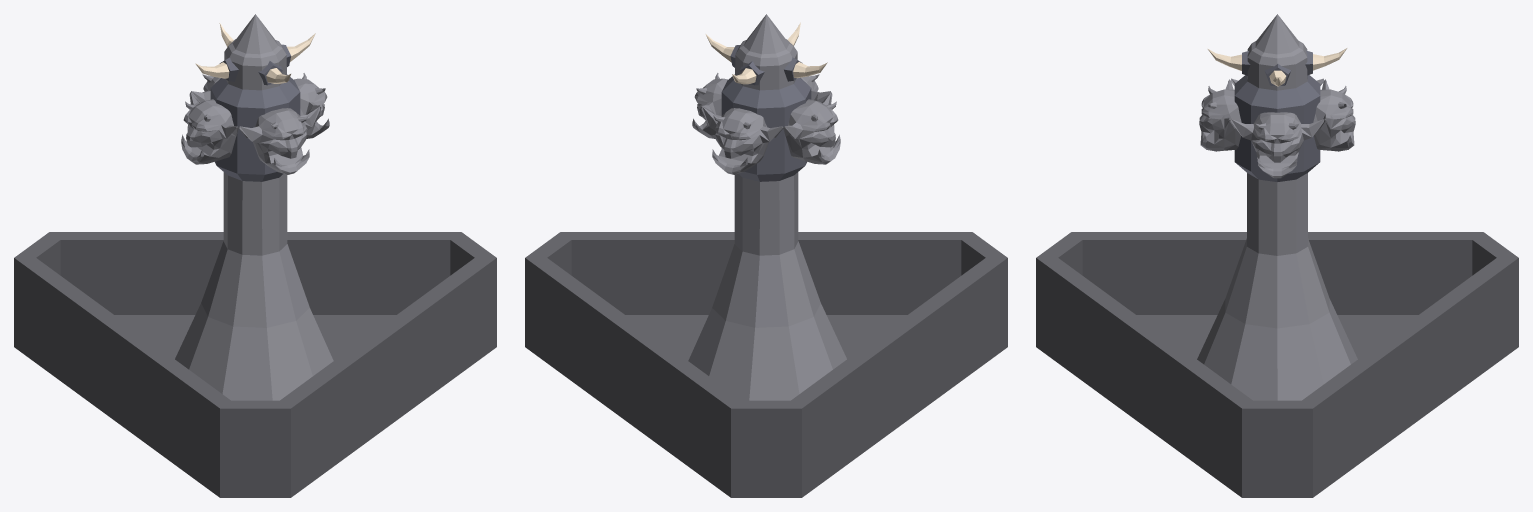
Rendered from fontan_2.fbx.
The picture shows the model from 3 angles, left to right: view 1: azimuth 30°, elevation 25°; view 2: azimuth 150°, elevation 25°; view 3: azimuth 270°, elevation 25°; orthographic projection.
Parts seen in each view (by area): view 1: fontain_2; view 2: fontain_2; view 3: fontain_2.
Part boxes in pixels (bbox=[...]): fontain_2: bbox=[14, 14, 496, 497]; fontain_2: bbox=[525, 14, 1007, 497]; fontain_2: bbox=[1036, 14, 1518, 497].
Bounding box in the file's own units: 353 × 349 × 408.
